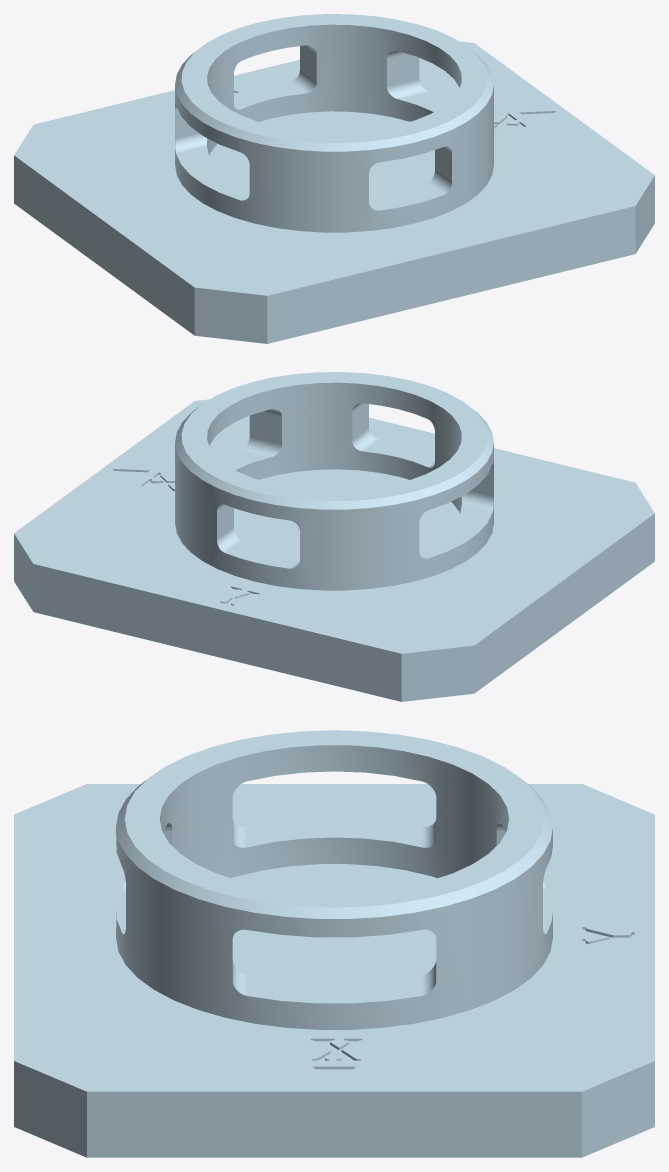
File: arm_base.dae
3 renders of one model, top to bottom at view 1: azimuth 30°, elevation 25°; view 2: azimuth 150°, elevation 25°; view 3: azimuth 270°, elevation 25°, orthographic. The views are drawn at different scales.
Visible parts, largest first — view 1: ID2; view 2: ID2; view 3: ID2.
Part boxes in pixels (left/top/right/bottom): ID2: left=14, top=14, right=654, bottom=343; ID2: left=14, top=372, right=654, bottom=701; ID2: left=14, top=730, right=654, bottom=1157.
Size of the model in its own units: 0.25 by 0.22 by 0.07.
